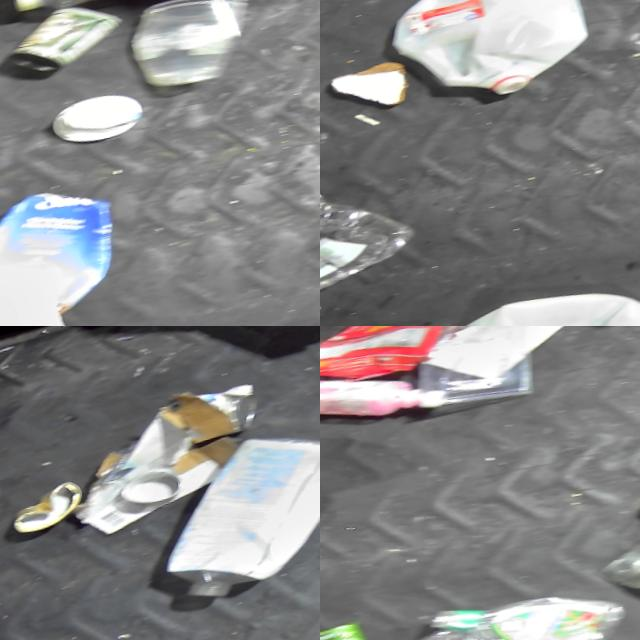can: (0, 0, 130, 79), (595, 517, 640, 609)
milk_jug: (137, 414, 320, 612), (380, 0, 596, 115), (438, 268, 640, 326)
non_white_jug: (0, 179, 129, 326)
plastic_bottle: (417, 607, 576, 640), (7, 0, 212, 18)
